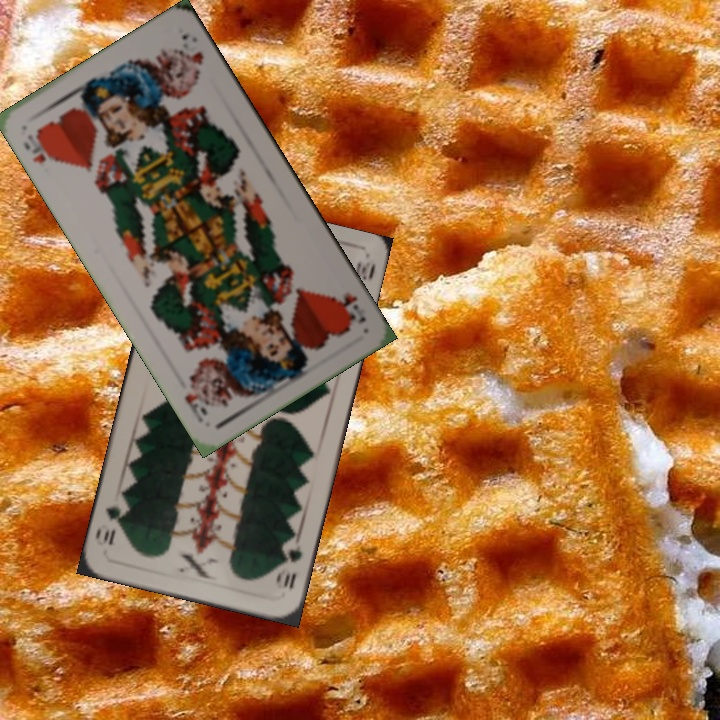G10: (273, 540, 305, 592)
HO: (19, 126, 59, 167), (330, 288, 369, 327)
